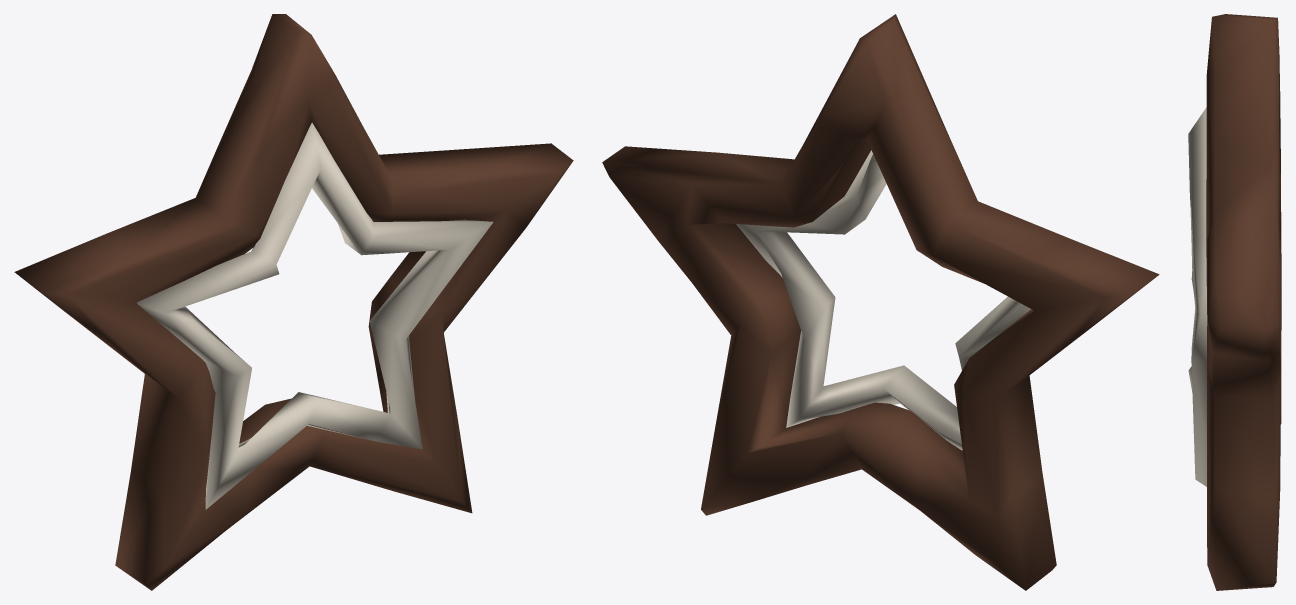
Rendered from sao_trong.glb.
The picture shows the model from 3 angles, left to right: view 1: azimuth 30°, elevation 25°; view 2: azimuth 150°, elevation 25°; view 3: azimuth 270°, elevation 25°; orthographic projection. The views are drawn at different scales.
Visible parts, largest first — view 1: sao_vien_trong, sao_than_trong; view 2: sao_vien_trong, sao_than_trong; view 3: sao_vien_trong, sao_than_trong.
Part boxes in pixels (x1=…): sao_vien_trong: x1=14, y1=14, x2=573, y2=590; sao_than_trong: x1=137, y1=122, x2=493, y2=509; sao_vien_trong: x1=602, y1=14, x2=1159, y2=590; sao_than_trong: x1=736, y1=150, x2=1030, y2=450; sao_vien_trong: x1=1206, y1=14, x2=1281, y2=590; sao_than_trong: x1=1188, y1=107, x2=1207, y2=486.
Bounding box in the file's own units: 0.1428 × 0.133 × 0.0226.
